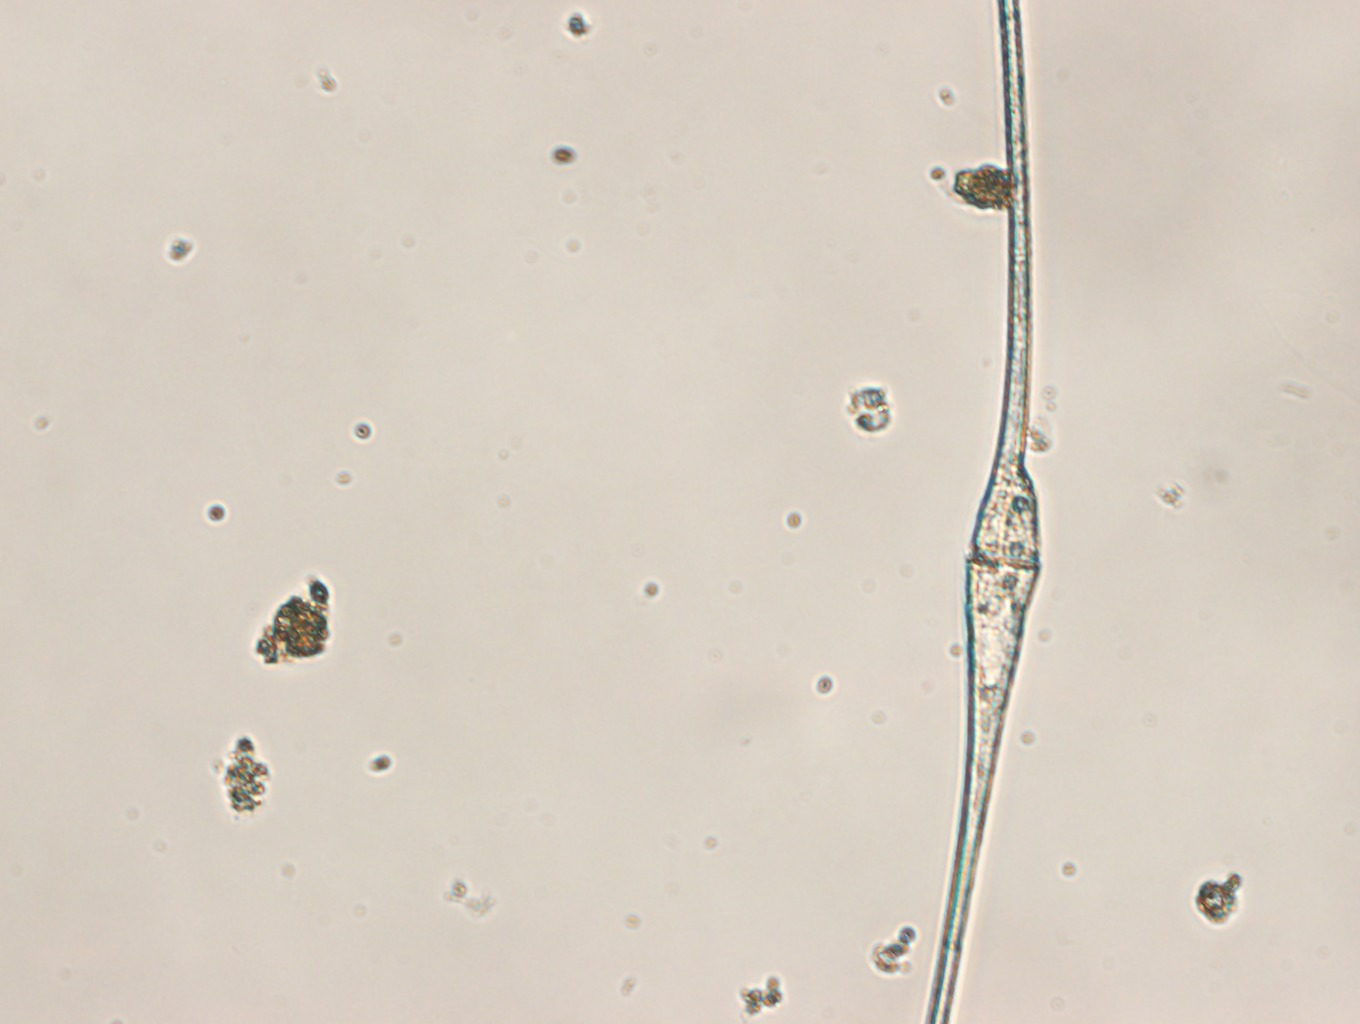ceratium fusus: (921, 1, 1048, 1024)
